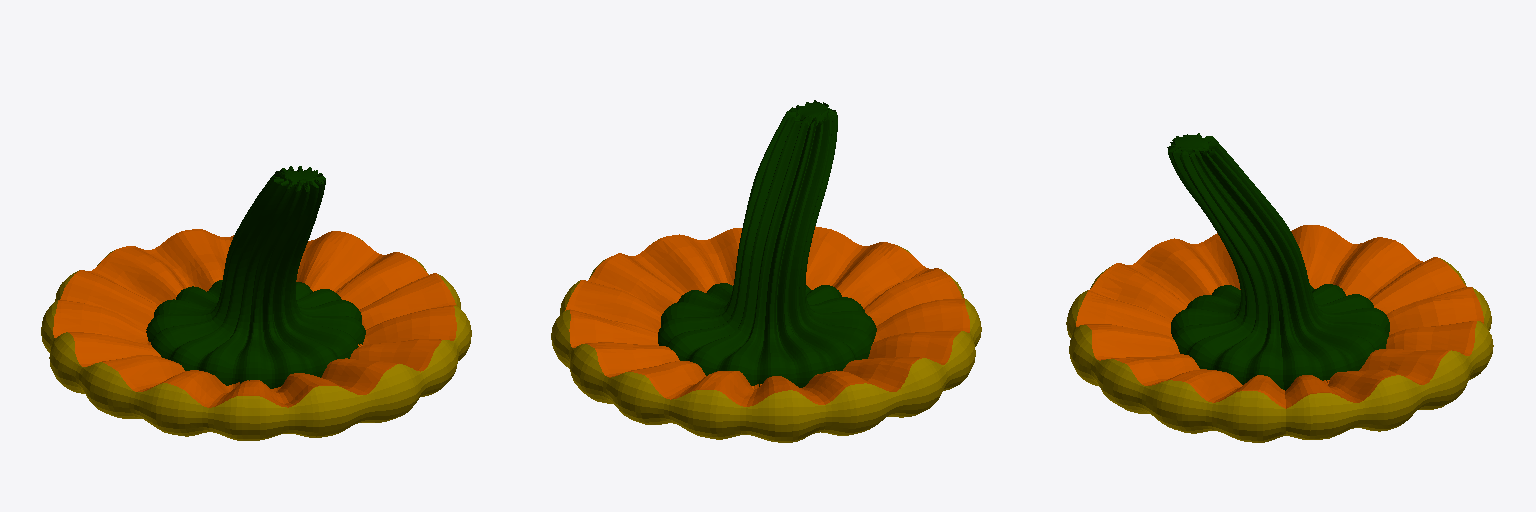
Rendered from Calabaza1Gorro.obj.
3 views of the same model, side by side, from view 1: azimuth 30°, elevation 25°; view 2: azimuth 150°, elevation 25°; view 3: azimuth 270°, elevation 25° (orthographic).
Parts seen in each view (by area): view 1: Top.001_Untitled.003; view 2: Top.001_Untitled.003; view 3: Top.001_Untitled.003.
Boxes of the visible parts, x1=… form: Top.001_Untitled.003: x1=41, y1=166, x2=471, y2=440; Top.001_Untitled.003: x1=551, y1=100, x2=981, y2=442; Top.001_Untitled.003: x1=1066, y1=133, x2=1493, y2=442.
Size of the model in its own units: 1.92 by 1.14 by 1.91.